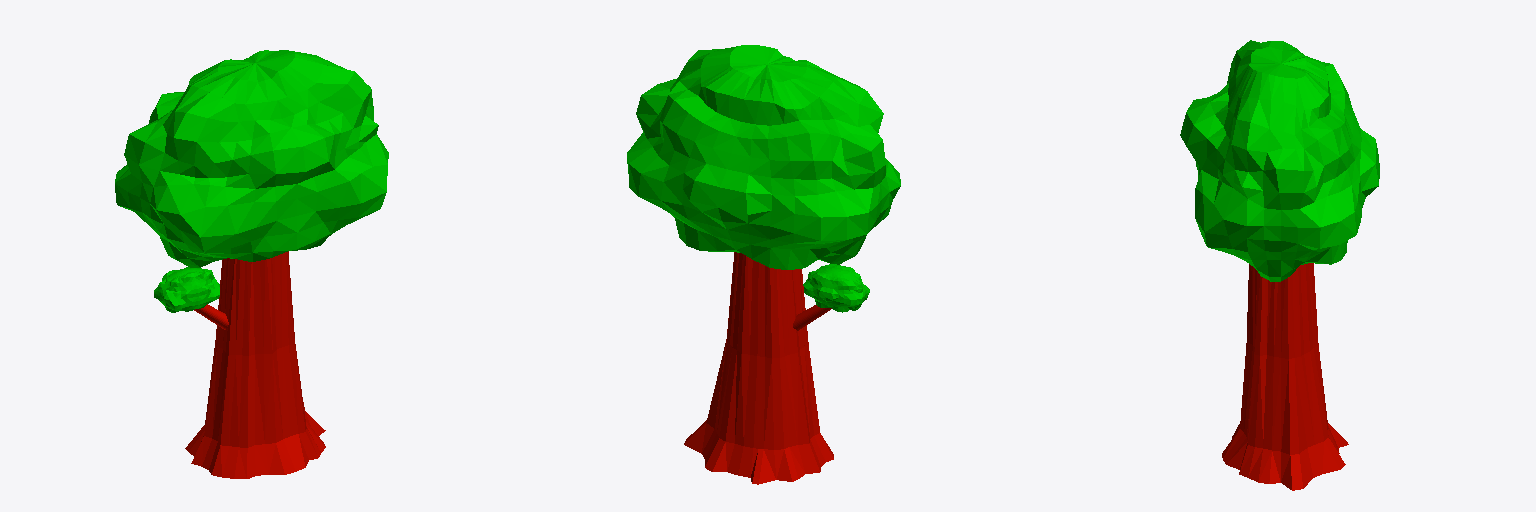
Rendered from kinomiki.obj.
3 renders of one model, left to right at view 1: azimuth 30°, elevation 25°; view 2: azimuth 150°, elevation 25°; view 3: azimuth 270°, elevation 25°, orthographic.
Parts seen in each view (by area): view 1: 球, 円柱.003, 球.001; view 2: 球, 円柱.003, 球.001; view 3: 球, 円柱.003.
Part boxes in pixels (bbox=[...]): 球: bbox=[115, 50, 388, 267]; 円柱.003: bbox=[185, 251, 325, 478]; 球.001: bbox=[154, 267, 219, 312]; 球: bbox=[627, 45, 900, 269]; 円柱.003: bbox=[684, 252, 833, 484]; 球.001: bbox=[803, 264, 869, 312]; 球: bbox=[1180, 40, 1379, 281]; 円柱.003: bbox=[1222, 263, 1348, 490].
Bounding box in the file's own units: 3.24 × 5.06 × 2.31.